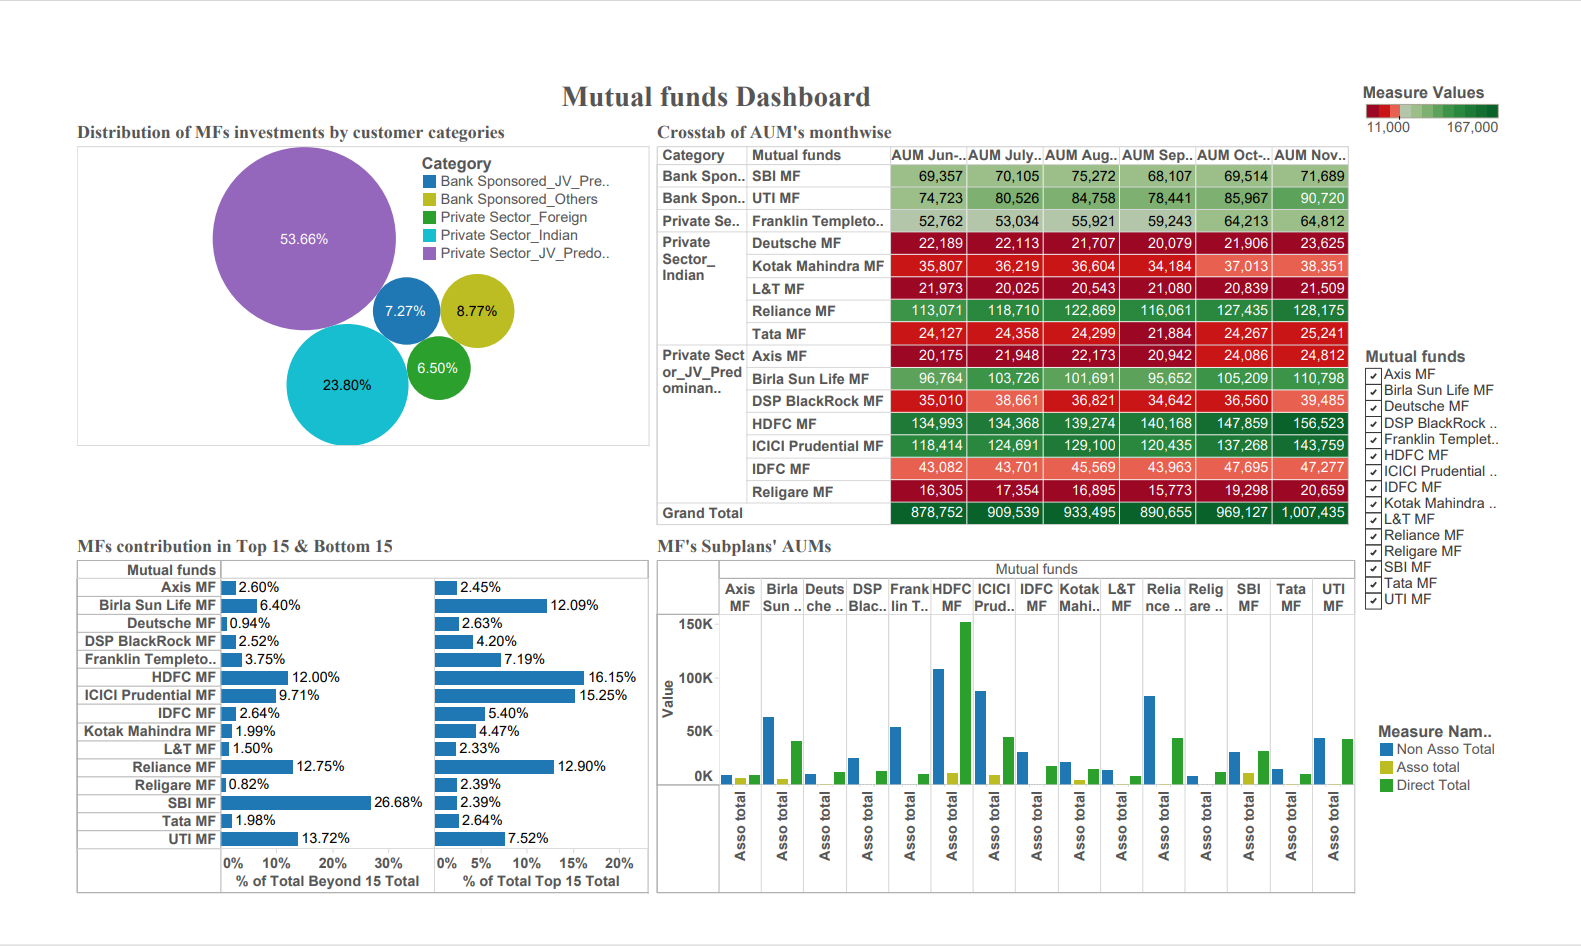

What the dashboard file says about the page in this screenshot:
{"tool":"tableau","page":{"name":"Dashboard 1","canvas":[1000,1000],"units":"permille","ordinal":0},"visuals":[{"type":"title","box":[6,13.6,867.2,47.5]},{"type":"legend","title":"Crosstab of AUM's monthwise","param":"[excel-direct.42341.582461157406].[Multiple Values]","box":[873.2,13.6,120.8,91.5]},{"type":"worksheet","title":"Distribution of MFs by customer categories","mark":"Circle","box":[6,61,389.7,490.2]},{"type":"worksheet","title":"Crosstab of AUM's monthwise","mark":"Automatic","rows":["Category","Mutual funds"],"box":[395.7,61,477.5,490.2]},{"type":"legend","title":"Distribution of MFs by customer categories","param":"[excel-direct.42341.582461157406].[none:Category:nk]","box":[243.7,95.8,134.8,164.2]},{"type":"filter","title":"MF SUBPLANS AUM's","param":"[excel-direct.42341.582461157406].[none:Mutual funds:nk]","box":[899.6,329.7,101.1,422.7]},{"type":"worksheet","title":"T 15 & B 15 AUMs","mark":"Automatic","rows":["Mutual funds"],"box":[6,551.2,389.7,435.3]},{"type":"worksheet","title":"MF SUBPLANS AUM's","mark":"Automatic","cols":["Mutual funds"],"box":[395.7,551.2,477.5,435.3]},{"type":"legend","title":"MF SUBPLANS AUM's","param":"[excel-direct.42341.582461157406].[:Measure Names]","box":[907.5,779.8,84.6,102.6]}]}

Visuals, with their boxes on the dashboard's canvas, which has no fixed pixel size, in thousandths of its width and height (x1, y1, x2, y2). These are canvas units, not pixel positions in the 1581x946 screenshot, which may show the page scaled, cropped or inside an application window:
title: {"x1": 6, "y1": 14, "x2": 873, "y2": 61}
"Crosstab of AUM's monthwise" legend: {"x1": 873, "y1": 14, "x2": 994, "y2": 105}
"Distribution of MFs by customer categories" worksheet (Circle marks): {"x1": 6, "y1": 61, "x2": 396, "y2": 551}
"Crosstab of AUM's monthwise" worksheet: {"x1": 396, "y1": 61, "x2": 873, "y2": 551}
"Distribution of MFs by customer categories" legend: {"x1": 244, "y1": 96, "x2": 378, "y2": 260}
"MF SUBPLANS AUM's" filter: {"x1": 900, "y1": 330, "x2": 1001, "y2": 752}
"T 15 & B 15 AUMs" worksheet: {"x1": 6, "y1": 551, "x2": 396, "y2": 986}
"MF SUBPLANS AUM's" worksheet: {"x1": 396, "y1": 551, "x2": 873, "y2": 986}
"MF SUBPLANS AUM's" legend: {"x1": 908, "y1": 780, "x2": 992, "y2": 882}
